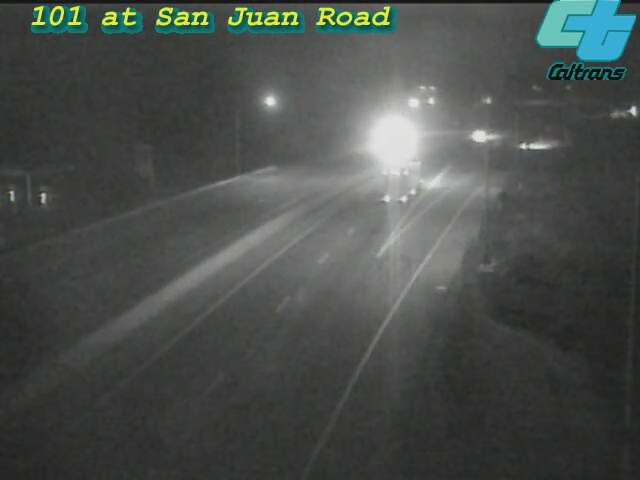vehicle: (368, 142, 448, 222), (358, 117, 408, 167), (457, 110, 507, 160), (507, 119, 557, 169)
